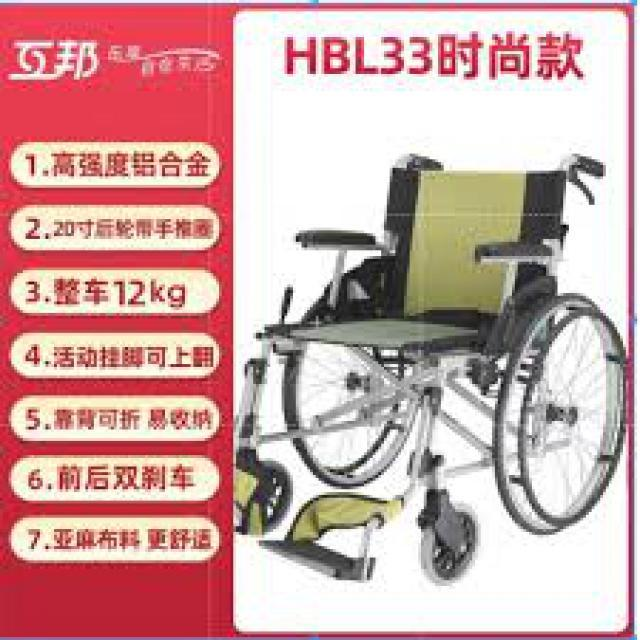wheelchair: (242, 145, 623, 612)
